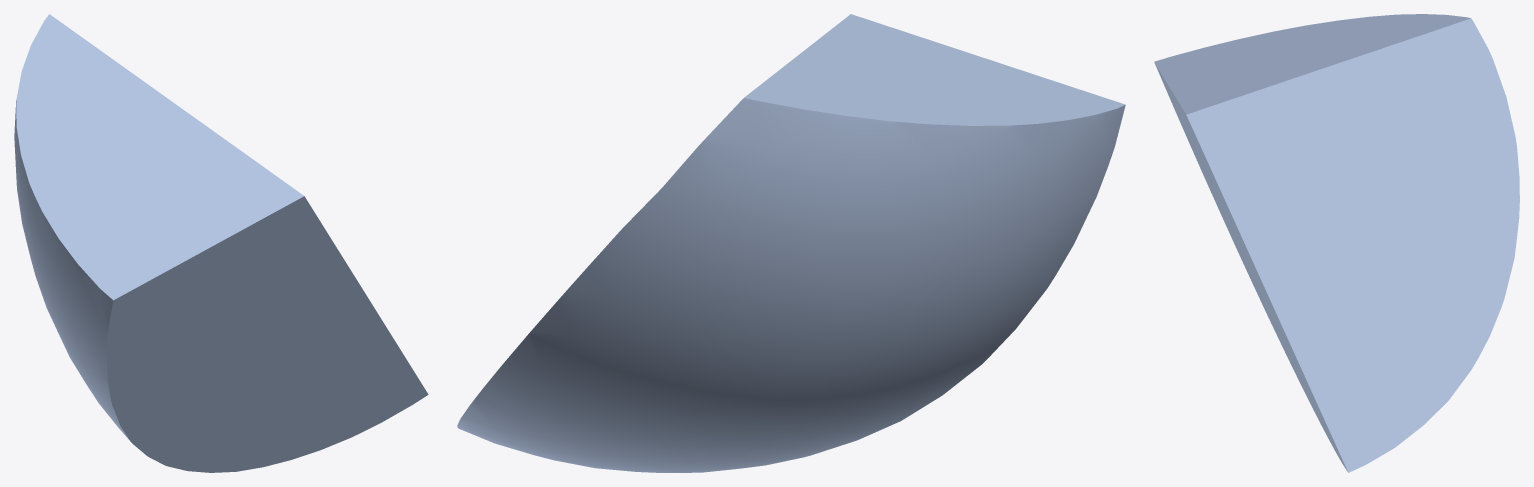
File: Ball3_6.fbx
3 views of the same model, side by side, from view 1: azimuth 30°, elevation 25°; view 2: azimuth 150°, elevation 25°; view 3: azimuth 270°, elevation 25° (orthographic). The views are drawn at different scales.
Parts seen in each view (by area): view 1: Cube_cell.055; view 2: Cube_cell.055; view 3: Cube_cell.055.
Boxes of the visible parts, left/top/right/bottom form: Cube_cell.055: left=14, top=14, right=428, bottom=472; Cube_cell.055: left=457, top=14, right=1125, bottom=472; Cube_cell.055: left=1154, top=14, right=1519, bottom=472.
Bounding box in the file's own units: 104 × 94.79 × 90.83.
